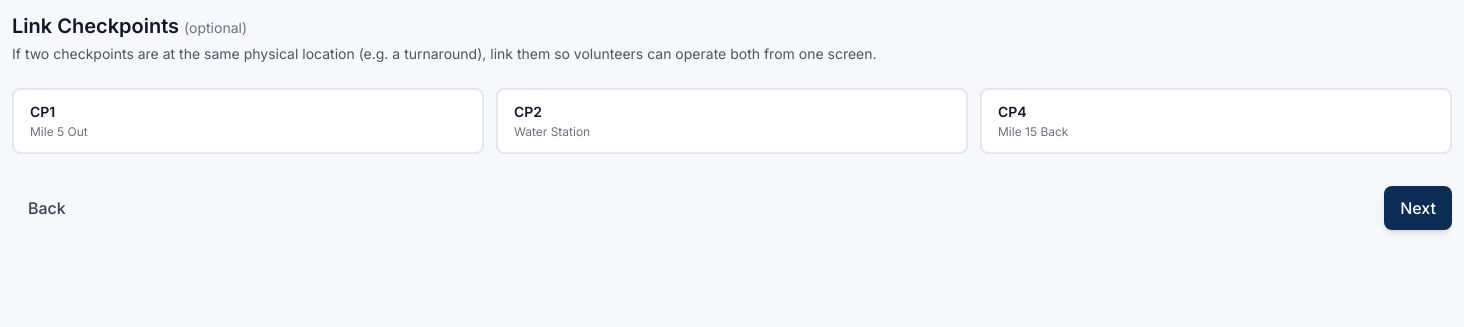
Test: LinkCheckpointsStep › links two checkpoints when both are clicked
Click the button with test id "cp-tile-1": click(59, 132) [12,88,484,154]
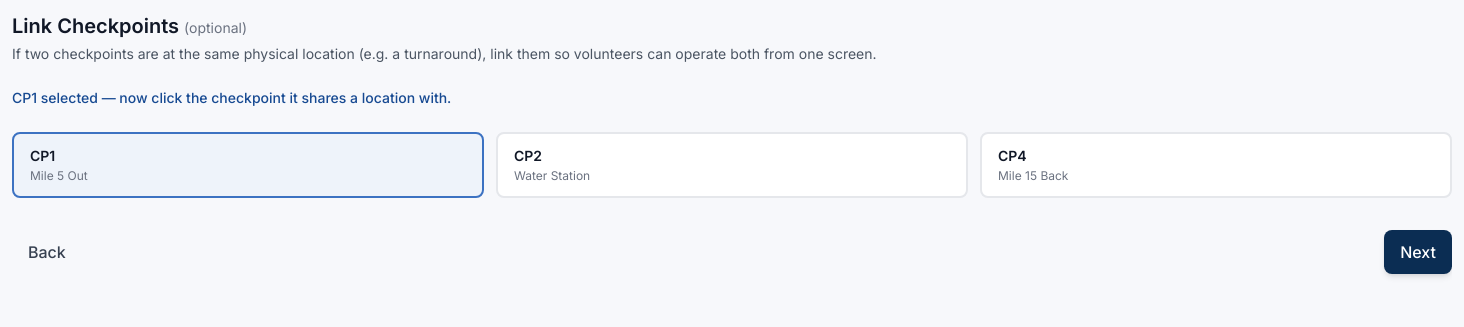
Click the button with test id "cp-tile-4": click(1033, 176) [980,132,1452,198]
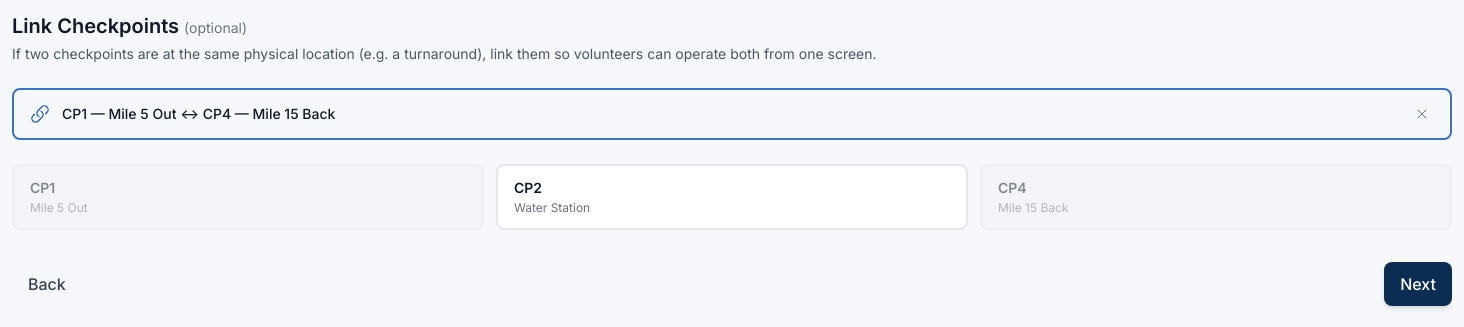
Expected: the button with test id "unlink-1-4" is shown, [1410,102,1434,126]
